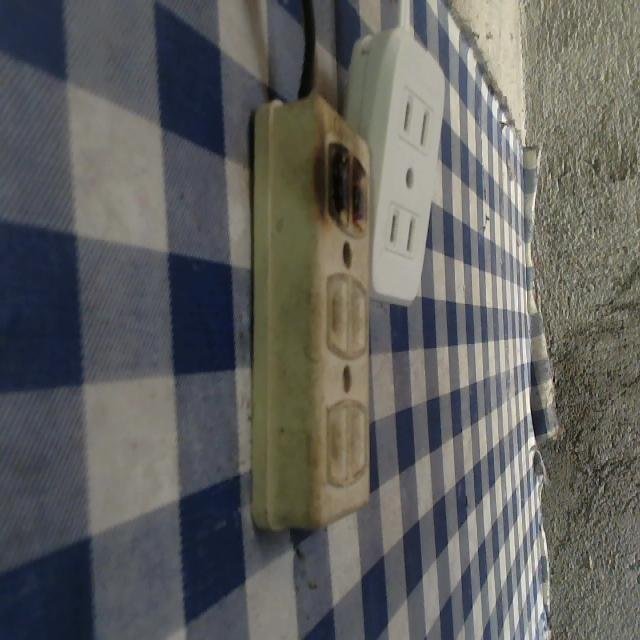-: (311, 128, 377, 241)
